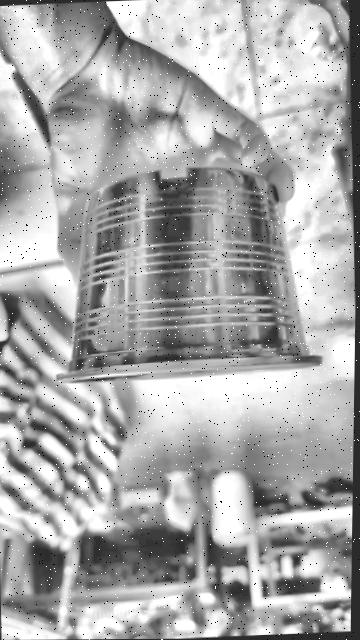pot: (57, 168, 320, 383)
